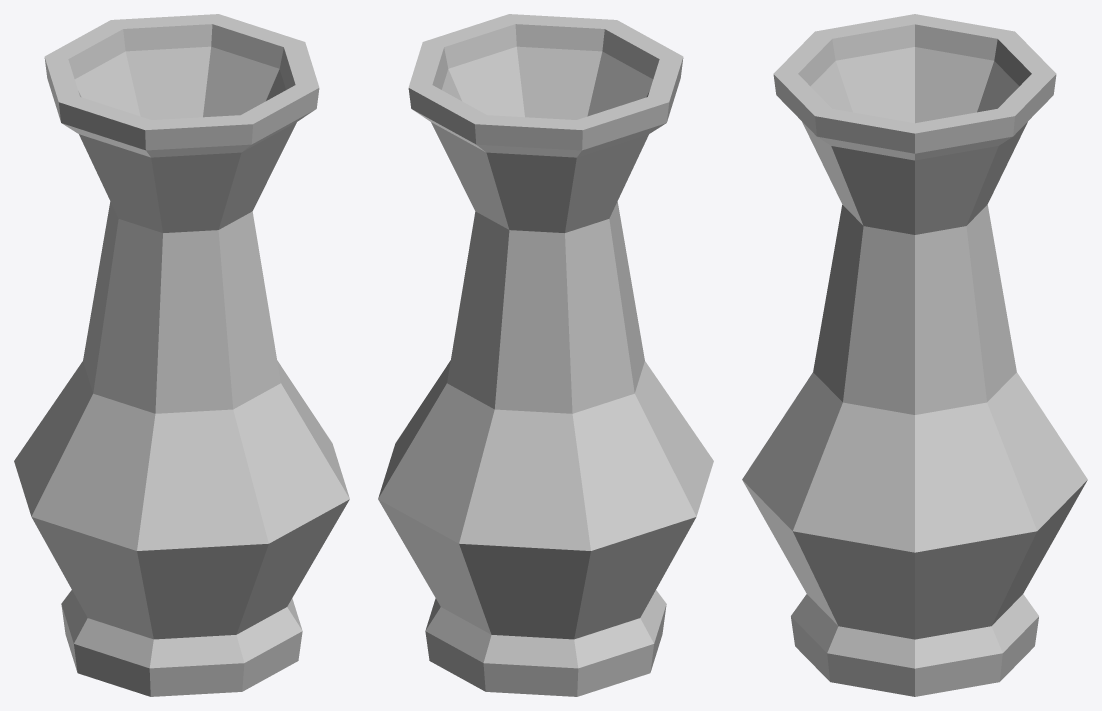
The model's file is Vase2.glb.
3 views of the same model, side by side, from view 1: azimuth 30°, elevation 25°; view 2: azimuth 150°, elevation 25°; view 3: azimuth 270°, elevation 25° (orthographic).
Parts seen in each view (by area): view 1: Vase2; view 2: Vase2; view 3: Vase2.
Boxes of the visible parts, <box> form: Vase2: <box>14,14,349,696</box>; Vase2: <box>378,14,713,696</box>; Vase2: <box>742,14,1087,696</box>.
Bounding box in the file's own units: 0.1676 × 0.306 × 0.1676.
1 material, 1 textured.
